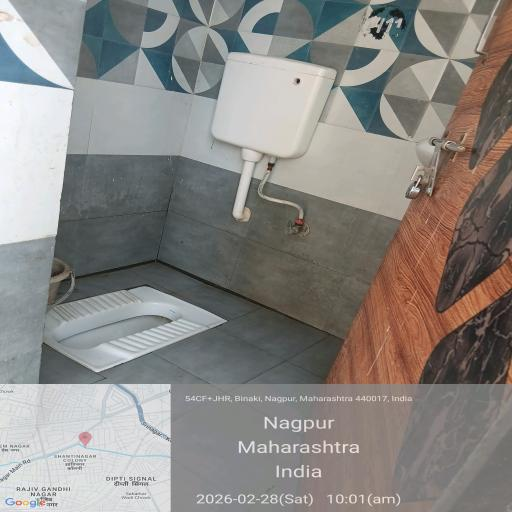clean_floor: (64, 0, 444, 237)
partial_dirty_floor: (211, 243, 379, 326)
partial_dirty_indian: (30, 290, 217, 362)
